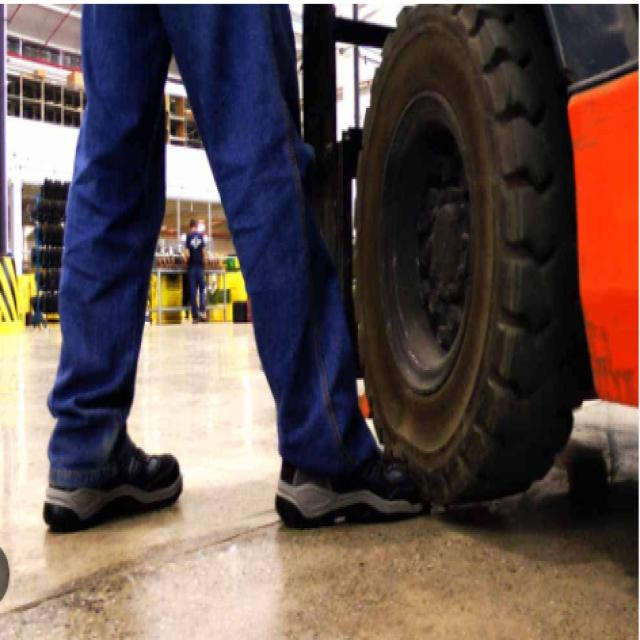shoes: (41, 406, 441, 534)
